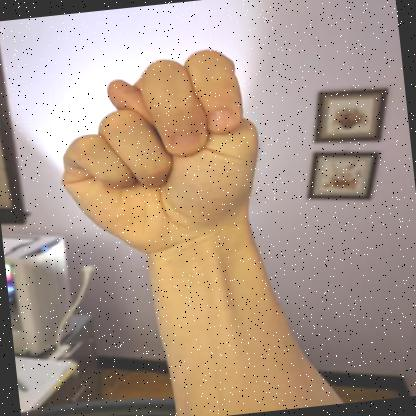N: (61, 49, 258, 257)
